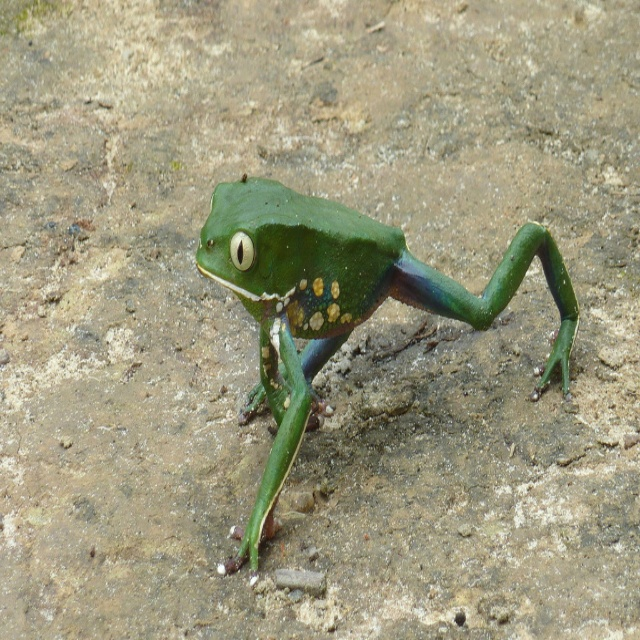Frog: (193, 176, 580, 577)
